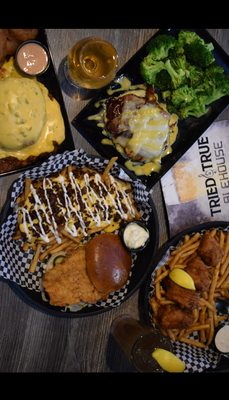curry: (140, 30, 228, 120)
sushi: (0, 156, 166, 319)
